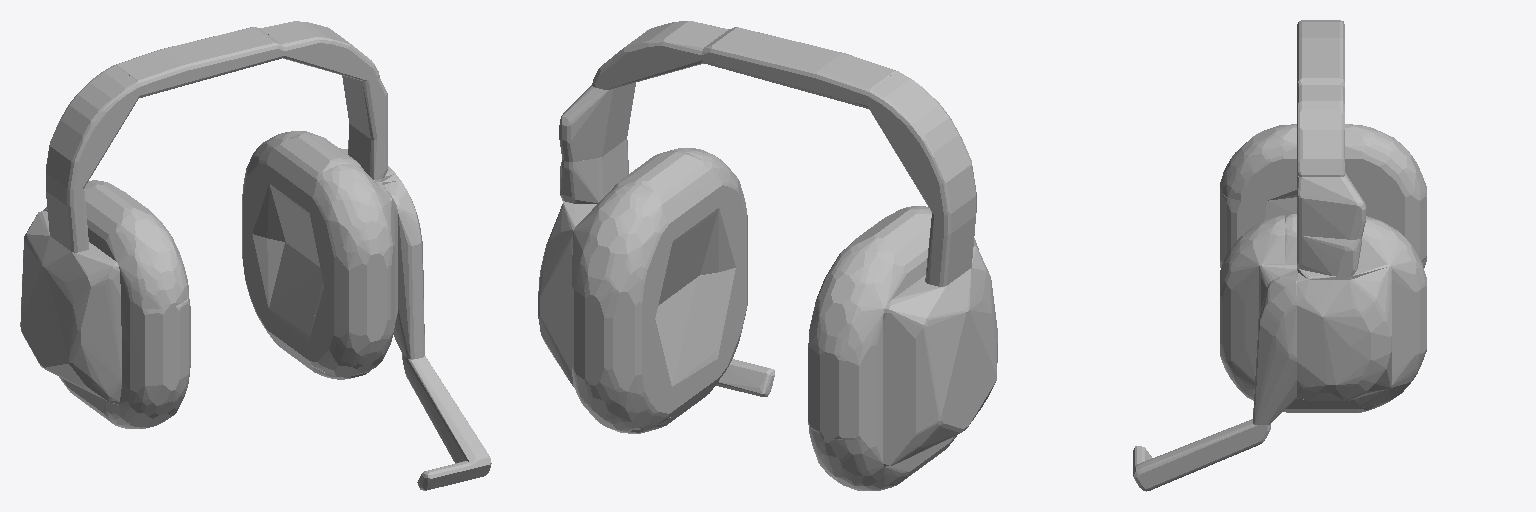
The robot description file, URDF, robot "root":
<?xml version="1.0"?>
<robot name="root">
  <link name="base_link">
    <visual>
      <origin xyz="0 0 0" rpy="0 0 0" />
      <geometry>
        <mesh filename="../meshes/unidex_sem_Headphones-63179fbdf2db65fff325ea98afcb29f9_006.obj" scale="1.0000E+00 1.0000E+00 1.0000E+00" />
      </geometry>
      <material name="">
        <color rgba="7.50E-01 7.50E-01 7.50E-01 1" />
      </material>
    </visual>
    <collision>
      <origin xyz="0 0 0" rpy="0 0 0" />
      <geometry>
        <mesh filename="../meshes/unidex_sem_Headphones-63179fbdf2db65fff325ea98afcb29f9_006.obj" scale="1.0000E+00 1.0000E+00 1.0000E+00" />
      </geometry>
    </collision>
  </link>
</robot>

--- Render facts (derived) ---
The picture shows the robot from 3 angles, left to right: view 1: azimuth 30°, elevation 25°; view 2: azimuth 150°, elevation 25°; view 3: azimuth 270°, elevation 25°; orthographic projection.
Robot: root — 1 links, 0 joints (none); root link base_link; default pose: every joint at zero.
Visible links, largest first — view 1: base_link; view 2: base_link; view 3: base_link.
Boxes of the visible links, x1,y1,x2,y2 form: base_link: [20, 21, 491, 490]; base_link: [538, 21, 997, 490]; base_link: [1133, 20, 1426, 491].
Size in the robot's own frame: 0.0743 by 0.0588 by 0.0796 metres.
1 mesh visuals loaded from 1 distinct referenced files (1 OBJ).
